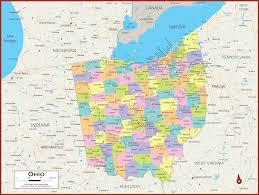ohio: (70, 33, 207, 181)
